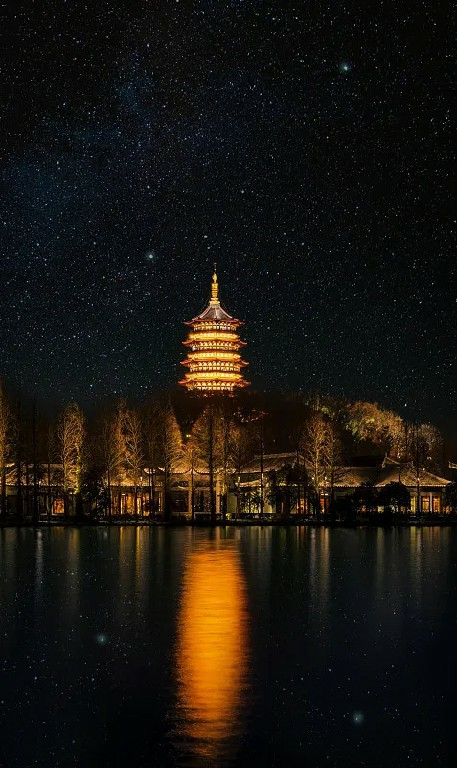Leifeng: (173, 257, 254, 399)
